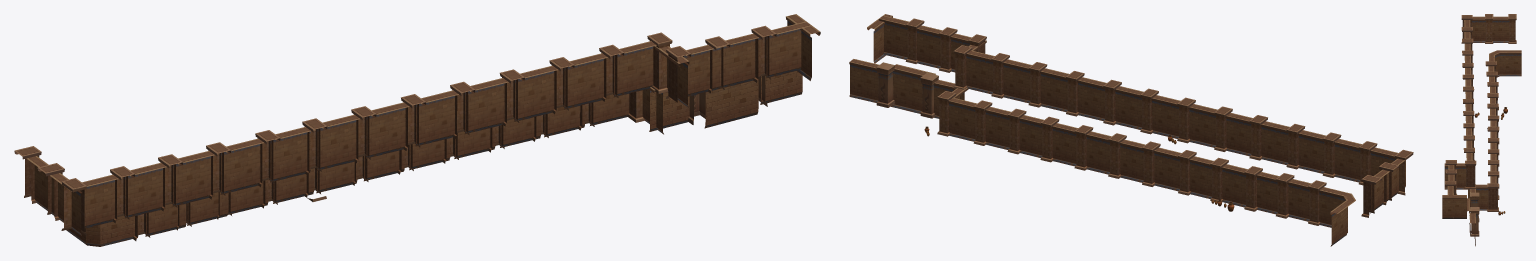
The model's file is Area_11_11.fbx.
3 renders of one model, left to right at view 1: azimuth 30°, elevation 25°; view 2: azimuth 150°, elevation 25°; view 3: azimuth 270°, elevation 25°, orthographic. The views are drawn at different scales.
Parts seen in each view (by area): view 1: Area_11_11; view 2: Area_11_11; view 3: Area_11_11.
Boxes of the visible parts, bbox=[...] form: Area_11_11: bbox=[14, 14, 820, 246]; Area_11_11: bbox=[849, 14, 1413, 246]; Area_11_11: bbox=[1442, 14, 1521, 246].
Size of the model in its own units: 11949 by 1553 by 2179.
